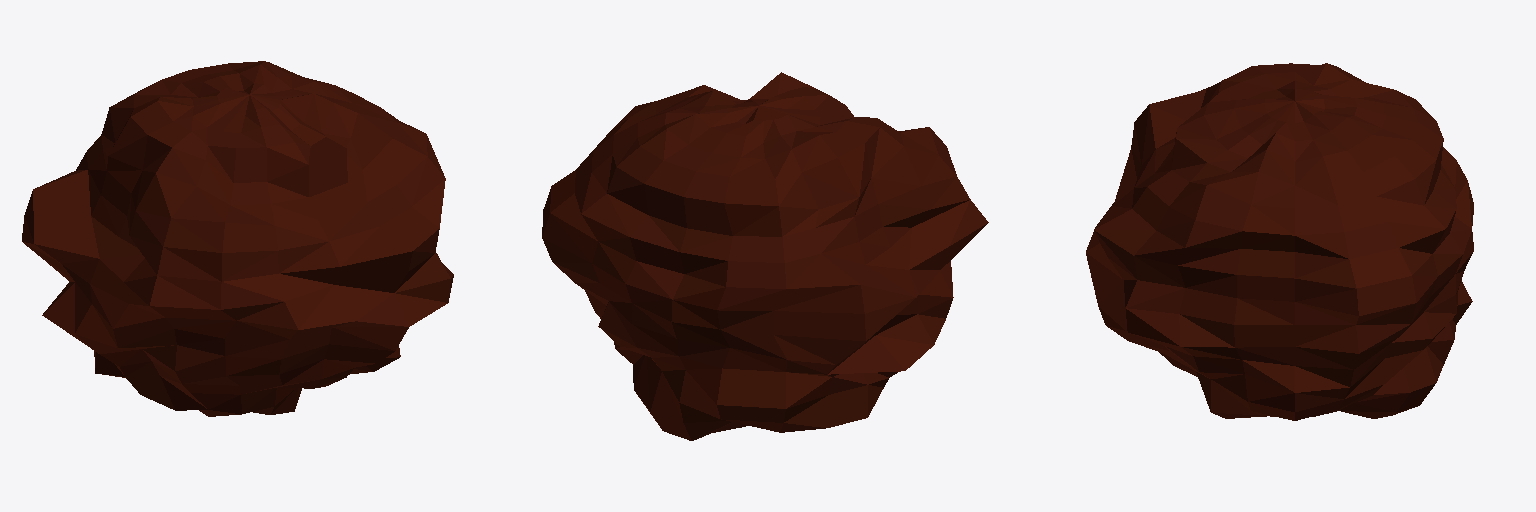
The model's file is asteroid_medium.obj.
3 renders of one model, left to right at view 1: azimuth 30°, elevation 25°; view 2: azimuth 150°, elevation 25°; view 3: azimuth 270°, elevation 25°, orthographic.
Visible parts, largest first — view 1: pSphere1; view 2: pSphere1; view 3: pSphere1.
Boxes of the visible parts, x1=… form: pSphere1: x1=22, y1=61, x2=453, y2=416; pSphere1: x1=542, y1=72, x2=988, y2=440; pSphere1: x1=1086, y1=63, x2=1473, y2=420.
Size of the model in its own units: 42.86 by 34.8 by 39.01.